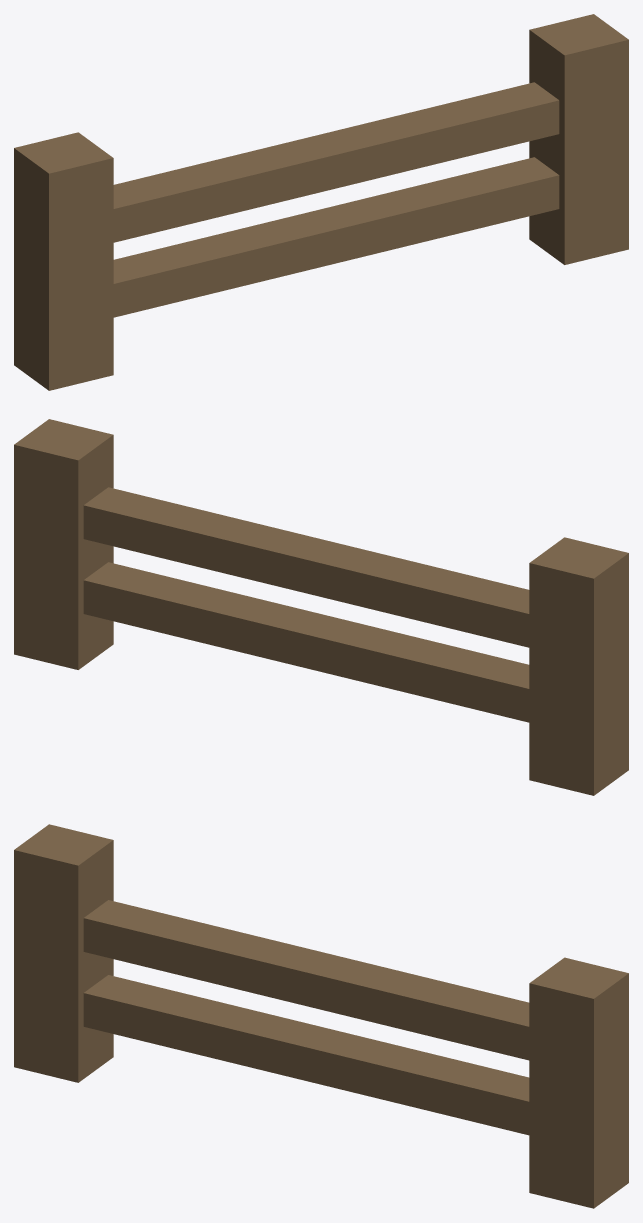
Rendered from recinzione.glb.
The picture shows the model from 3 angles, top to bottom: view 1: azimuth 30°, elevation 25°; view 2: azimuth 150°, elevation 25°; view 3: azimuth 330°, elevation 25°; orthographic projection.
Size of the model in its own units: 1.62 by 0.58 by 0.17.
